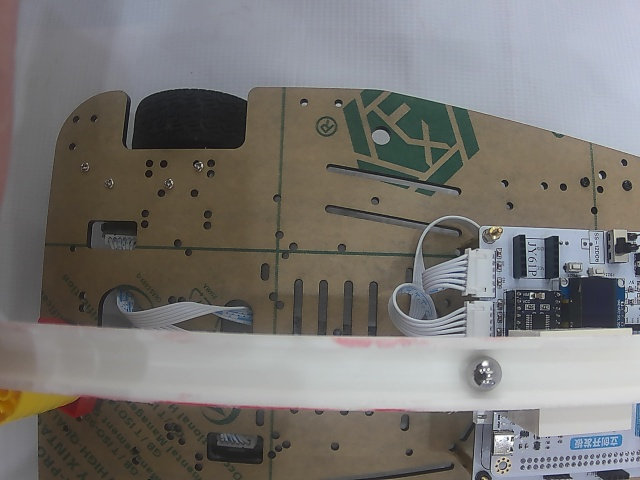steelball: (466, 355, 502, 390)
